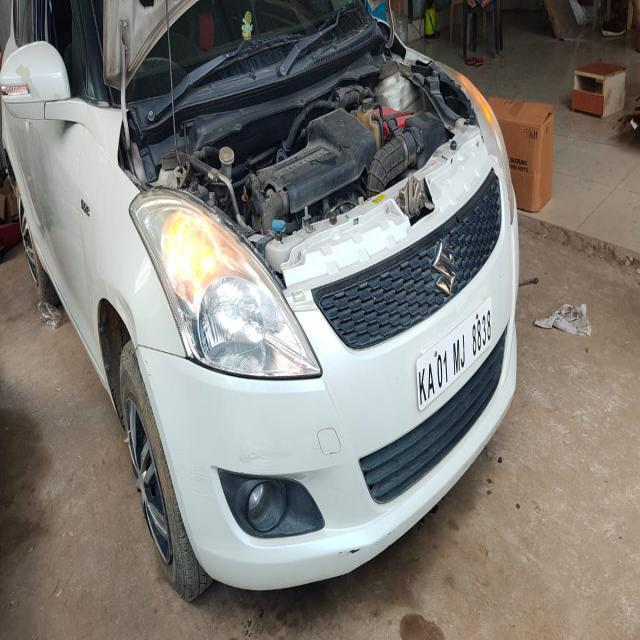front-bumper-dent: (171, 359, 373, 596)
